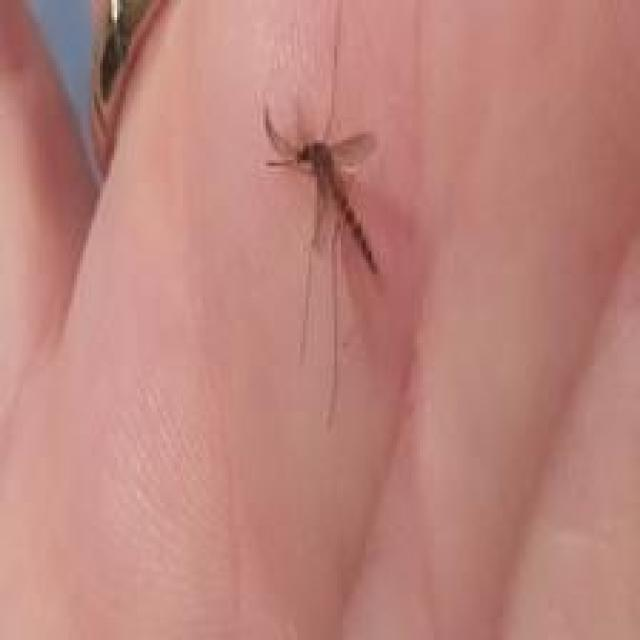Culex: (260, 100, 383, 429)
